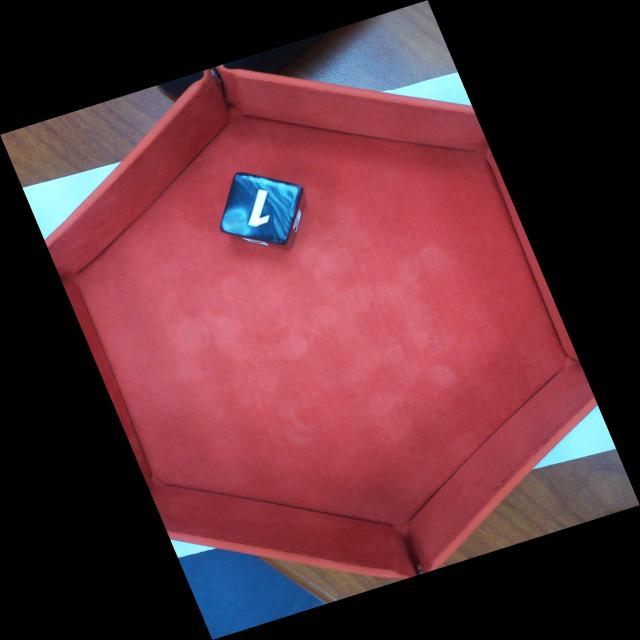dice: (220, 175, 305, 246)
